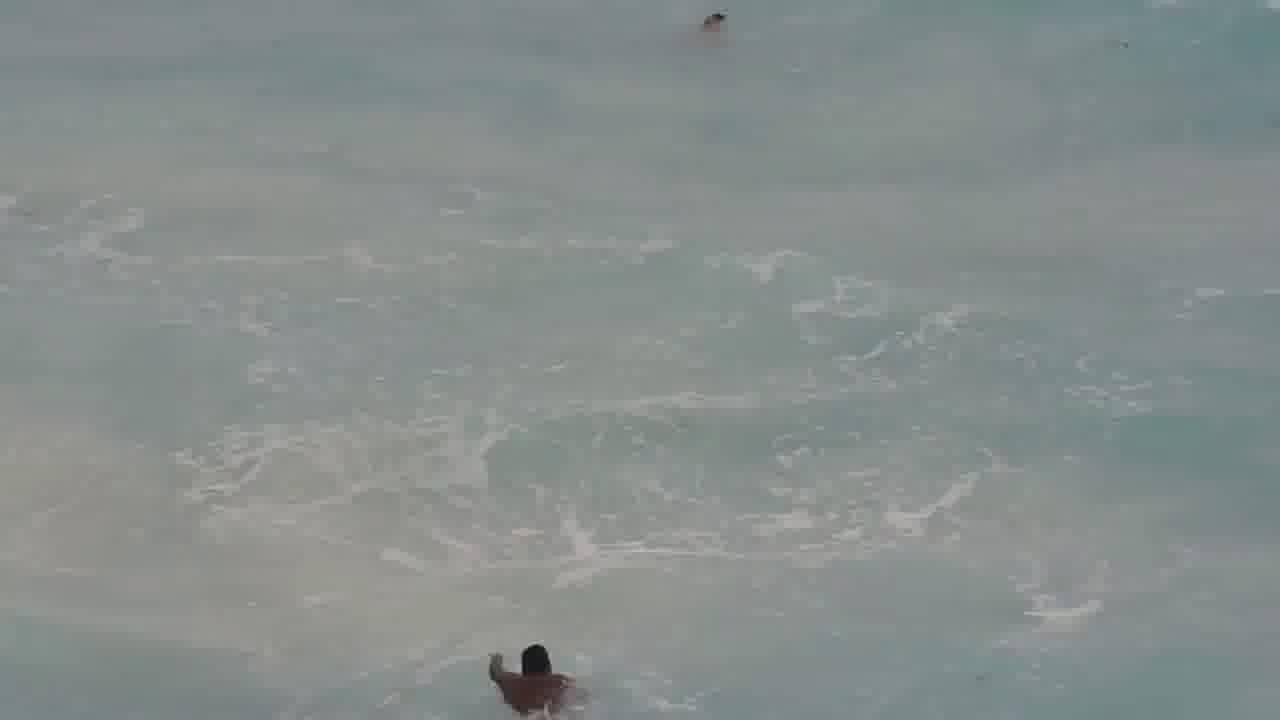human: (497, 646, 592, 708), (698, 11, 733, 38)
